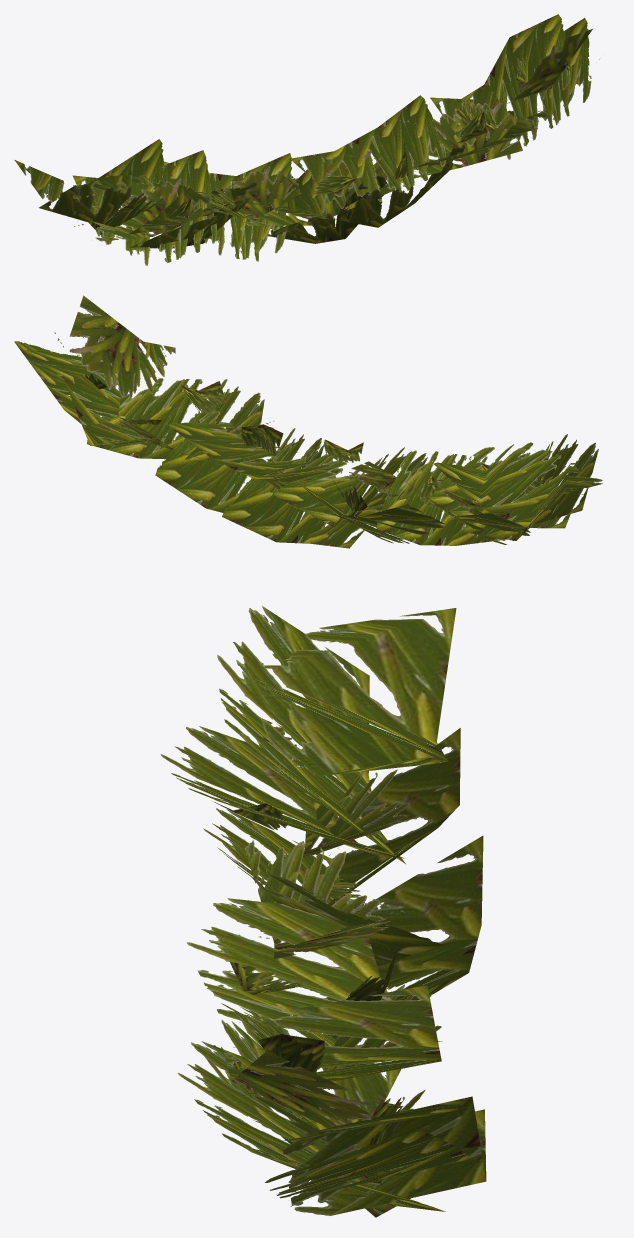
File: jugando.obj
3 views of the same model, one above another, from view 1: azimuth 30°, elevation 25°; view 2: azimuth 150°, elevation 25°; view 3: azimuth 270°, elevation 25° (orthographic). The views are drawn at different scales.
Visible parts, largest first — view 1: norvedem-garland.001; view 2: norvedem-garland.001; view 3: norvedem-garland.001.
Part boxes in pixels (x1,y1,x2,y2): norvedem-garland.001: [14, 14, 599, 265]; norvedem-garland.001: [14, 295, 602, 548]; norvedem-garland.001: [160, 606, 486, 1217].
Bounding box in the file's own units: 7.41 × 2.18 × 1.92.
1 material, 1 textured.
